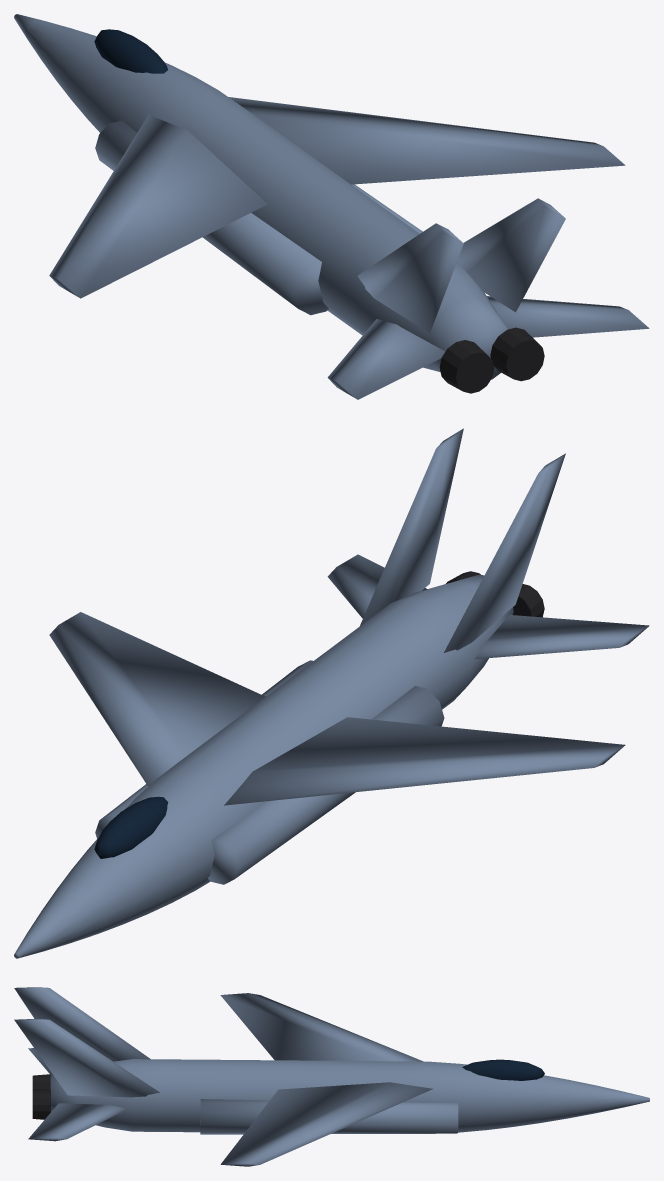
The picture shows the model from 3 angles, top to bottom: view 1: azimuth 30°, elevation 25°; view 2: azimuth 150°, elevation 25°; view 3: azimuth 270°, elevation 25°; orthographic projection. The views are drawn at different scales.
Parts seen in each view (by area): view 1: Body, Detail, Canopy; view 2: Body, Canopy, Detail; view 3: Body, Canopy, Detail.
Boxes of the visible parts, x1,y1,x2,y2 form: Body: (14, 14, 649, 399); Detail: (439, 327, 544, 393); Canopy: (94, 29, 167, 73); Body: (14, 428, 649, 958); Canopy: (94, 796, 168, 858); Detail: (446, 571, 544, 617); Body: (14, 987, 649, 1166); Canopy: (462, 1059, 544, 1080); Detail: (32, 1074, 50, 1119).
Size of the model in its own units: 13 by 4.53 by 20.59.
